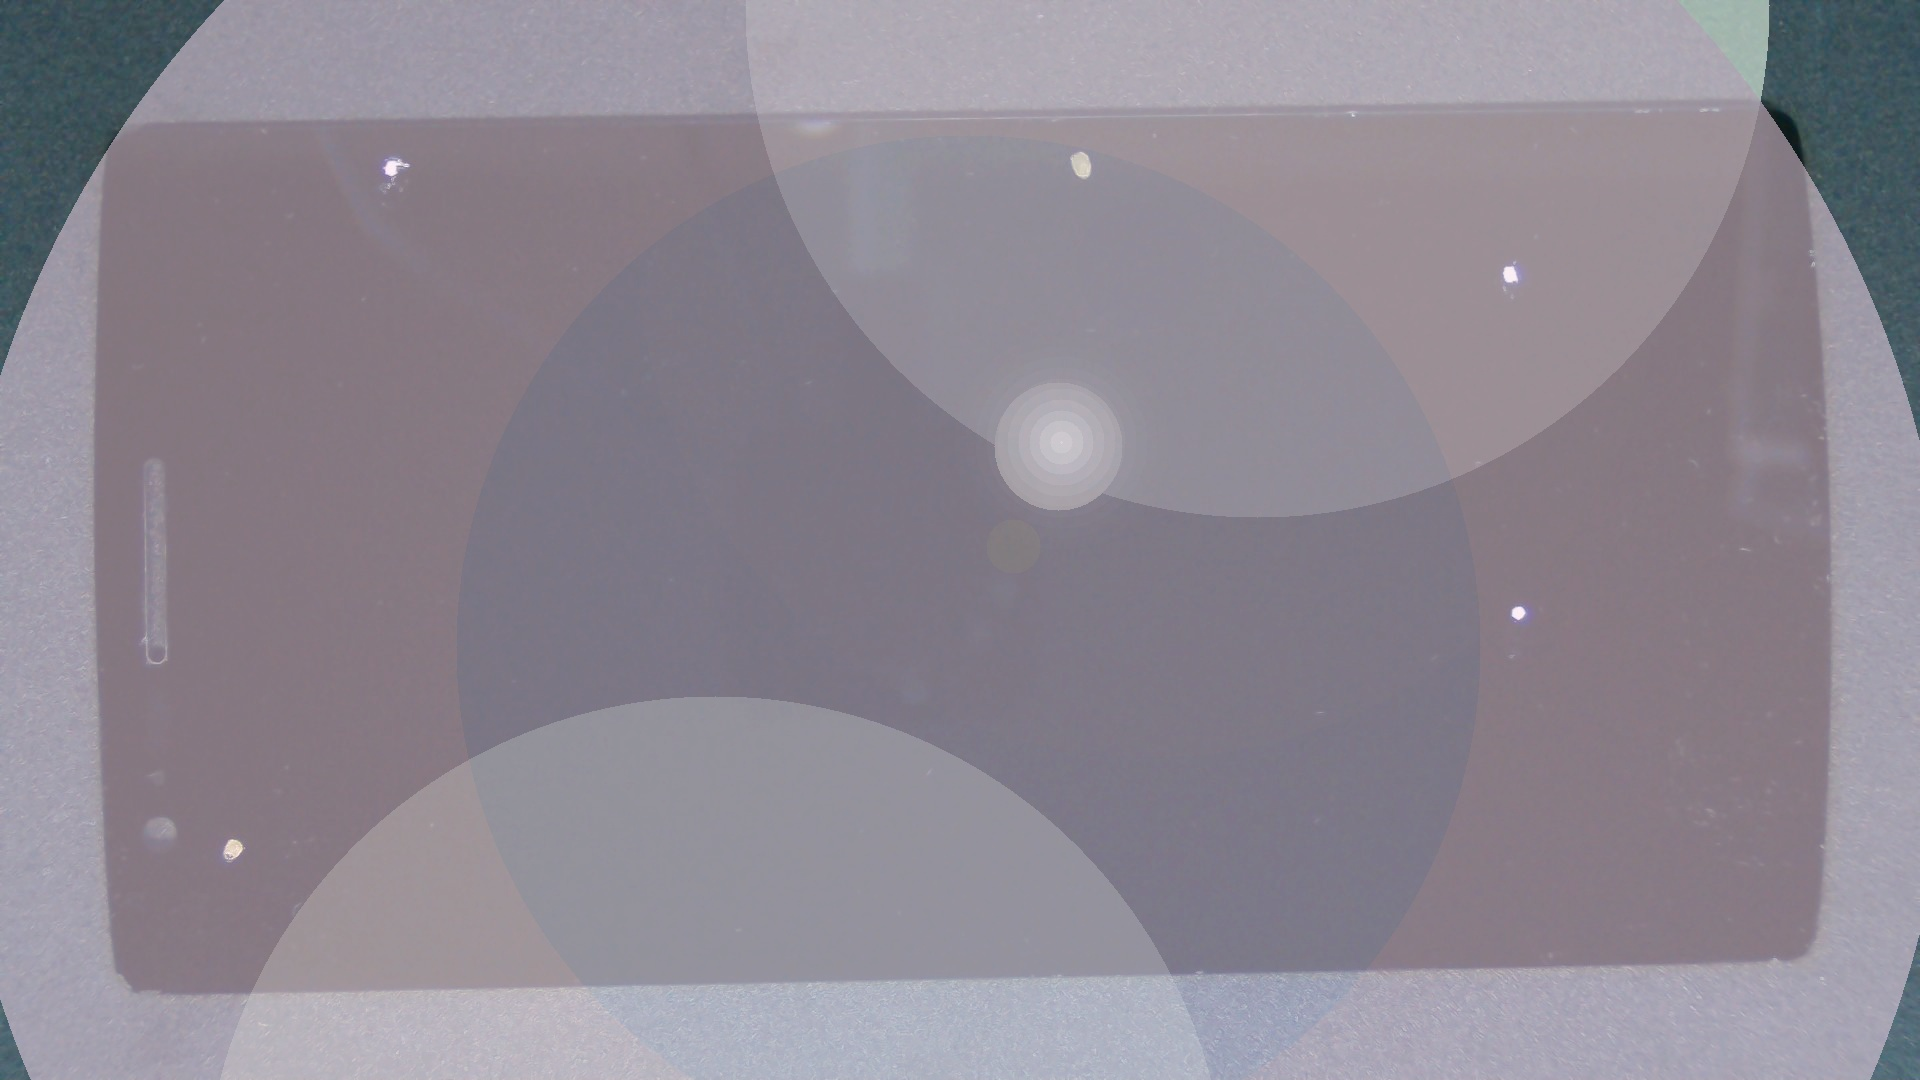oil: (761, 302, 1920, 906), (757, 131, 1920, 396), (539, 74, 1617, 224), (120, 418, 357, 1080), (194, 78, 580, 235)
